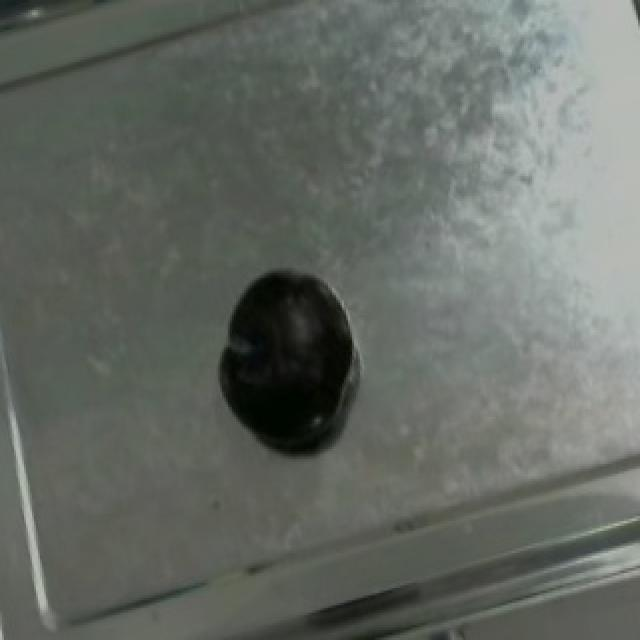Fruit: (206, 256, 368, 467)
